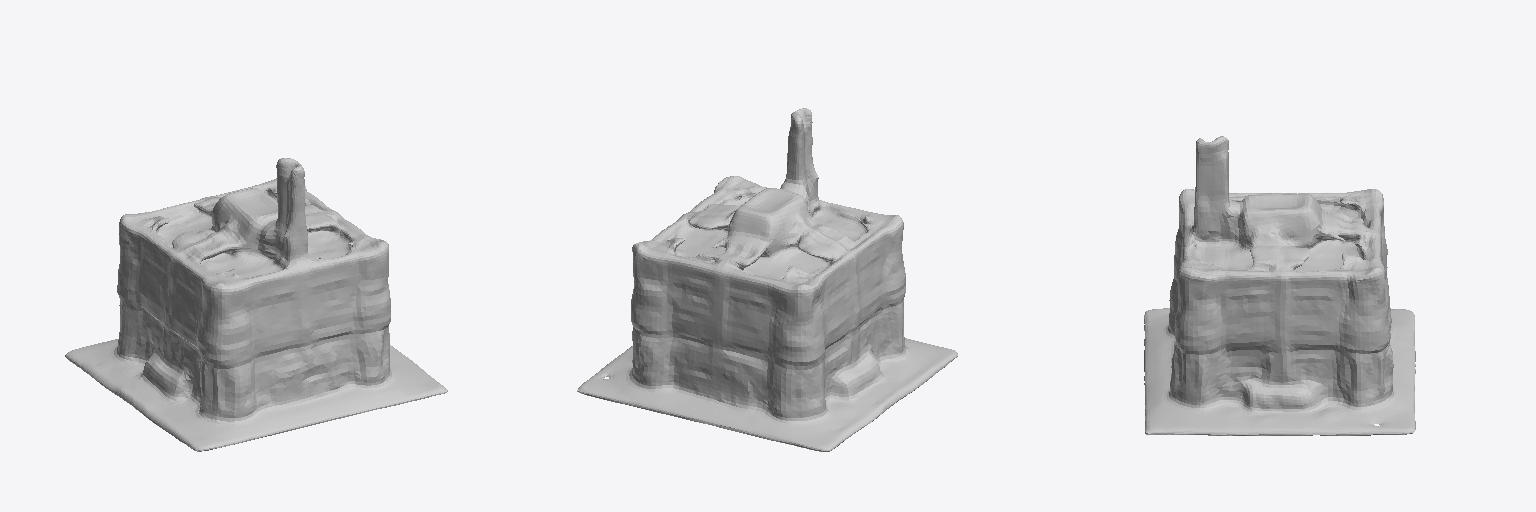
File: 481b01492e3f_sci_fi_industrial_b.obj
3 views of the same model, side by side, from view 1: azimuth 30°, elevation 25°; view 2: azimuth 150°, elevation 25°; view 3: azimuth 270°, elevation 25° (orthographic).
Visible parts, largest first — view 1: mesh; view 2: mesh; view 3: mesh.
Part boxes in pixels (left/top/right/bottom): mesh: left=65, top=158, right=447, bottom=451; mesh: left=577, top=108, right=957, bottom=451; mesh: left=1144, top=136, right=1415, bottom=435.
Bounding box in the file's own units: 0.9997 × 0.8878 × 0.9163.